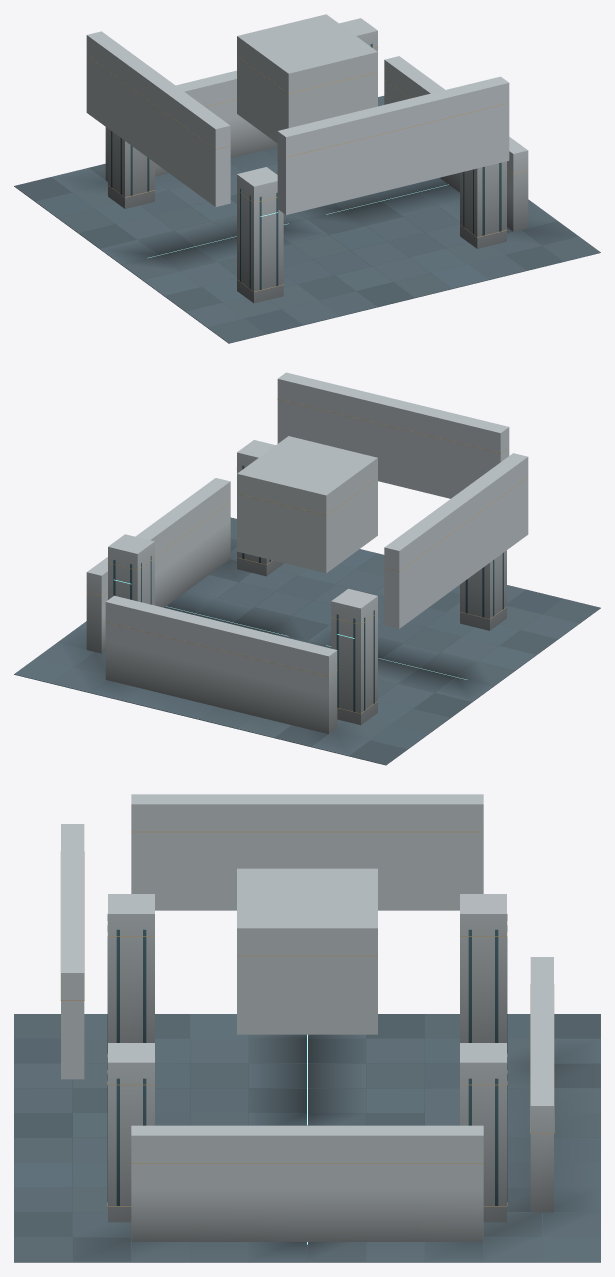
Rendered from 01_world.glb.
3 views of the same model, one above another, from view 1: azimuth 30°, elevation 25°; view 2: azimuth 150°, elevation 25°; view 3: azimuth 270°, elevation 25° (orthographic). The views are drawn at different scales.
Visible parts, largest first — view 1: world_11_body_nocol, world_01_body_nocol, world_01_floor_noshadow_nocol, world_11_floor_noshadow_nocol, world_00_floor_noshadow_nocol, world_10_body_nocol, world_00_body_nocol, world_10_floor_noshadow_nocol, world_01_panel_noshadow_nocol, world_11_panel_noshadow_nocol, world_11_trim_noshadow_nocol, world_00_panel_noshadow_nocol; view 2: world_11_body_nocol, world_10_body_nocol, world_01_body_nocol, world_01_floor_noshadow_nocol, world_11_floor_noshadow_nocol, world_00_floor_noshadow_nocol, world_10_floor_noshadow_nocol, world_00_body_nocol, world_00_panel_noshadow_nocol, world_11_trim_noshadow_nocol; view 3: world_11_body_nocol, world_01_body_nocol, world_01_floor_noshadow_nocol, world_00_floor_noshadow_nocol, world_11_floor_noshadow_nocol, world_10_floor_noshadow_nocol, world_10_body_nocol, world_00_body_nocol, world_11_trim_noshadow_nocol, world_00_panel_noshadow_nocol, world_01_panel_noshadow_nocol, world_10_panel_noshadow_nocol (+2 smaller).
Boxes of the visible parts, bbox=[...] form: world_11_body_nocol: bbox=[237, 14, 528, 248]; world_01_body_nocol: bbox=[86, 31, 283, 303]; world_01_floor_noshadow_nocol: bbox=[121, 219, 414, 343]; world_11_floor_noshadow_nocol: bbox=[308, 185, 600, 298]; world_00_floor_noshadow_nocol: bbox=[14, 163, 306, 264]; world_10_body_nocol: bbox=[105, 18, 377, 181]; world_00_body_nocol: bbox=[108, 128, 154, 208]; world_10_floor_noshadow_nocol: bbox=[230, 96, 448, 218]; world_01_panel_noshadow_nocol: bbox=[240, 188, 278, 289]; world_11_panel_noshadow_nocol: bbox=[463, 162, 501, 235]; world_11_trim_noshadow_nocol: bbox=[237, 56, 528, 237]; world_00_panel_noshadow_nocol: bbox=[111, 131, 149, 195]; world_11_body_nocol: bbox=[86, 372, 509, 653]; world_10_body_nocol: bbox=[105, 534, 337, 733]; world_01_body_nocol: bbox=[384, 453, 528, 630]; world_01_floor_noshadow_nocol: bbox=[308, 585, 600, 686]; world_11_floor_noshadow_nocol: bbox=[166, 517, 384, 640]; world_00_floor_noshadow_nocol: bbox=[200, 641, 493, 765]; world_10_floor_noshadow_nocol: bbox=[14, 606, 306, 719]; world_00_body_nocol: bbox=[331, 588, 377, 725]; world_00_panel_noshadow_nocol: bbox=[336, 610, 374, 711]; world_11_trim_noshadow_nocol: bbox=[87, 399, 509, 596]; world_11_body_nocol: bbox=[61, 824, 483, 1241]; world_01_body_nocol: bbox=[108, 794, 483, 1042]; world_01_floor_noshadow_nocol: bbox=[14, 1014, 306, 1137]; world_00_floor_noshadow_nocol: bbox=[307, 1014, 600, 1137]; world_11_floor_noshadow_nocol: bbox=[14, 1138, 307, 1262]; world_10_floor_noshadow_nocol: bbox=[307, 1138, 600, 1262]; world_10_body_nocol: bbox=[460, 957, 553, 1222]; world_00_body_nocol: bbox=[460, 894, 506, 1042]; world_11_trim_noshadow_nocol: bbox=[60, 851, 483, 1206]; world_00_panel_noshadow_nocol: bbox=[468, 914, 507, 1053]; world_01_panel_noshadow_nocol: bbox=[107, 914, 146, 1053]; world_10_panel_noshadow_nocol: bbox=[468, 1062, 507, 1205].
Bounding box in the file's own units: 100 × 45.12 × 100.
